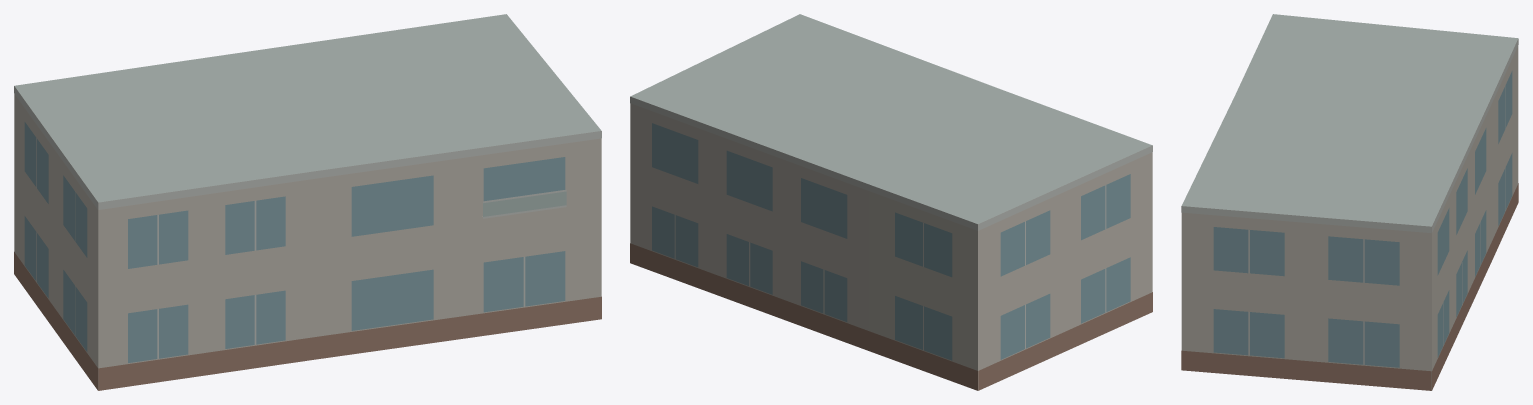
The model's file is survey-upis-32675061.glb.
The picture shows the model from 3 angles, left to right: view 1: azimuth 30°, elevation 25°; view 2: azimuth 150°, elevation 25°; view 3: azimuth 270°, elevation 25°; orthographic projection. The views are drawn at different scales.
Visible parts, largest first — view 1: survey-upis-32675061.tmp; view 2: survey-upis-32675061.tmp; view 3: survey-upis-32675061.tmp.
Part boxes in pixels (x1,y1,x2,y2): survey-upis-32675061.tmp: (14, 14, 601, 390); survey-upis-32675061.tmp: (630, 14, 1152, 390); survey-upis-32675061.tmp: (1181, 14, 1518, 390).
Size of the model in its own units: 16.95 by 6.1 by 11.35.
